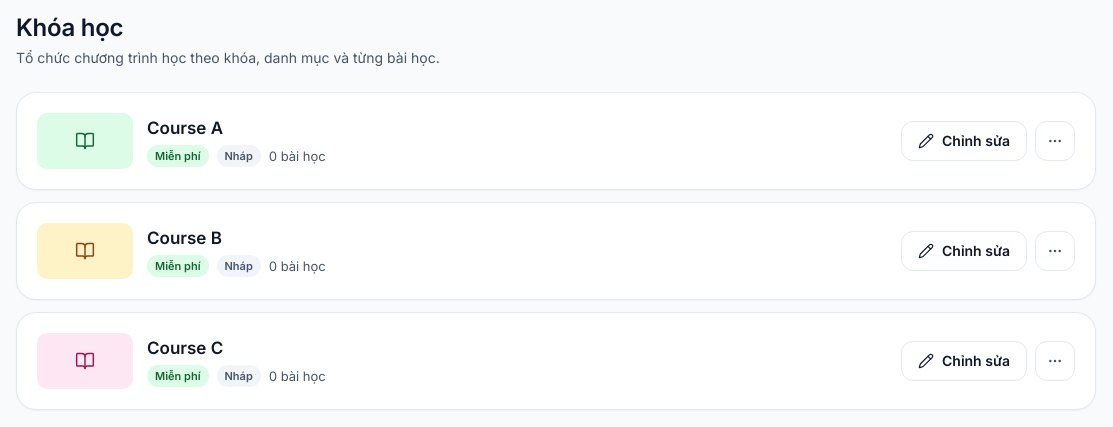
it: StudioCourses - reorder courses (R18-04) › shows the move items to staff holding class-wide COURSE:EDIT
The width and height of the screenshot is (1113, 427).
Expected: the heading "Course B" is shown, top-left (147, 228), bottom-right (222, 248)
Click the button named "Thao tác khác cho khóa học \"Course B\"" at {"x": 1055, "y": 251}, box top-left (1035, 231), bottom-right (1075, 271)
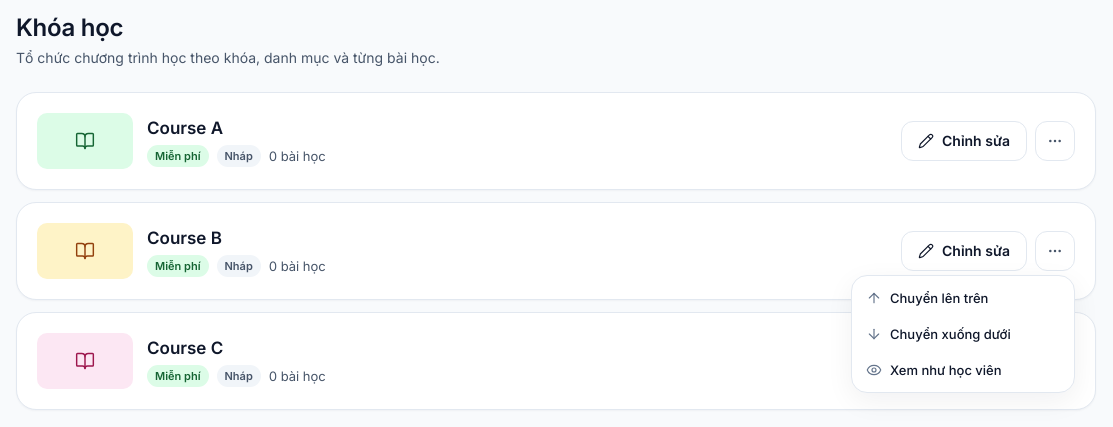
Expected: the menu item named "Chuyển khóa học \"Course B\" lên trên" is shown, top-left (856, 280), bottom-right (1070, 316)
